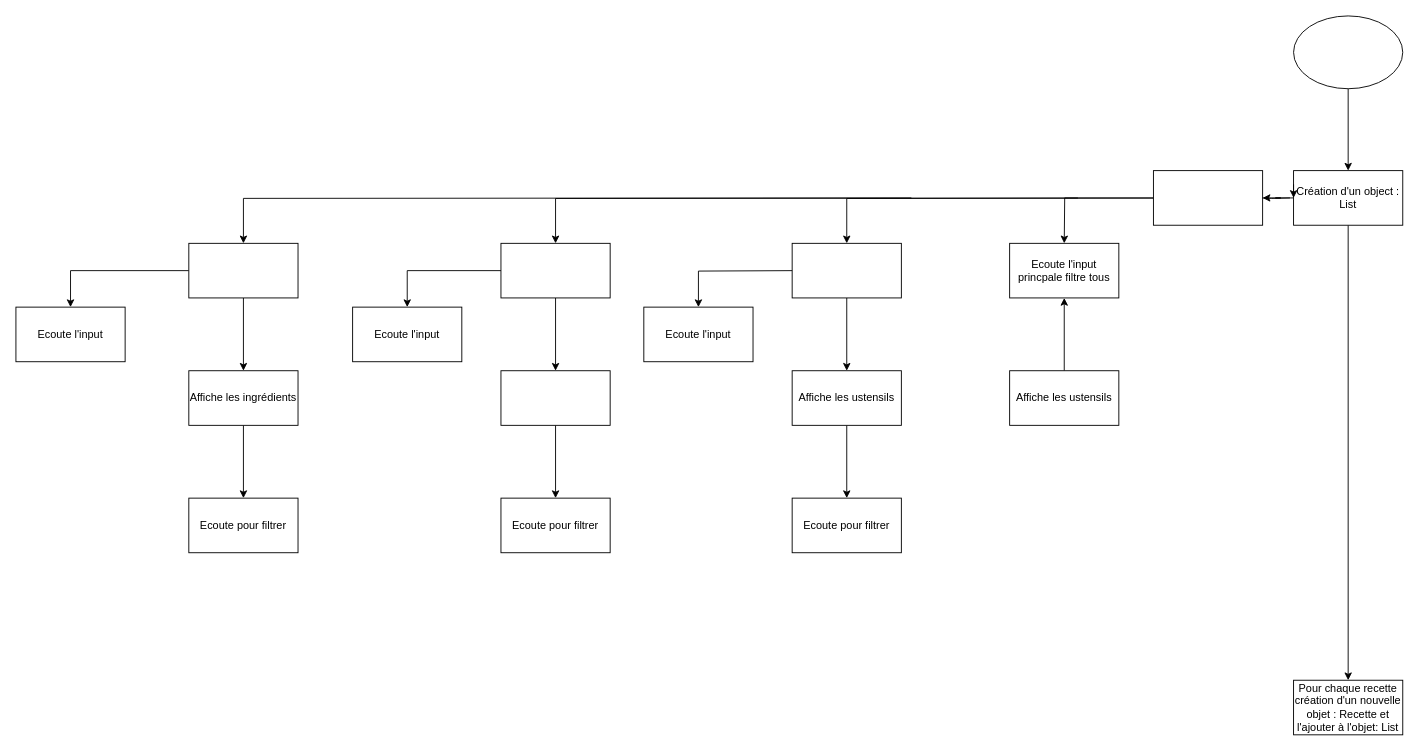
The diagram is 1419 pixels wide and 751 high, and some of its shapes have lost their labels. The box of each missing label's shape, as (x1, y1, x2, y2) in pixels:
Affiche les appareils: (500, 370, 610, 425)
List collecte les appareils de chaque recette: (500, 242, 610, 298)
List collecte les ingrédient de chaque recette: (188, 242, 298, 298)
List collecte les ustensils de chaque recette: (791, 242, 901, 298)
Objet List Par défault filtrer sur l'ensemble du tableau: (1153, 170, 1263, 225)
Récupération des recettes: (1293, 15, 1403, 89)
